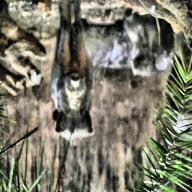boar: (47, 9, 106, 146)
